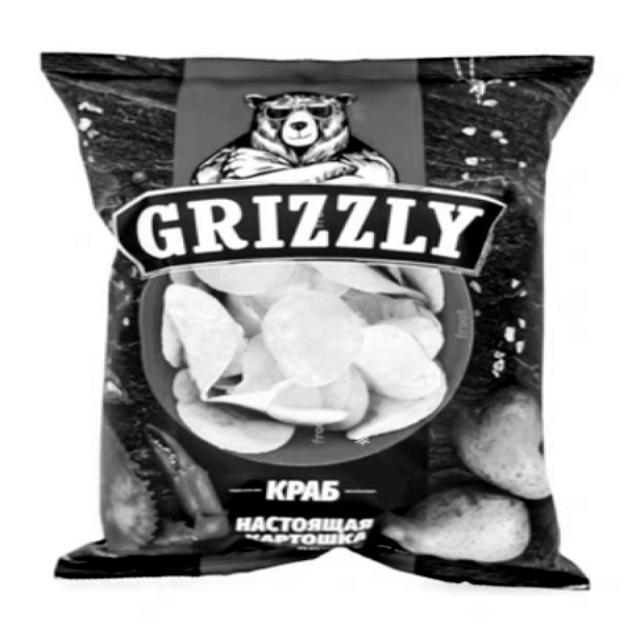grizzly: (118, 94, 508, 276)
